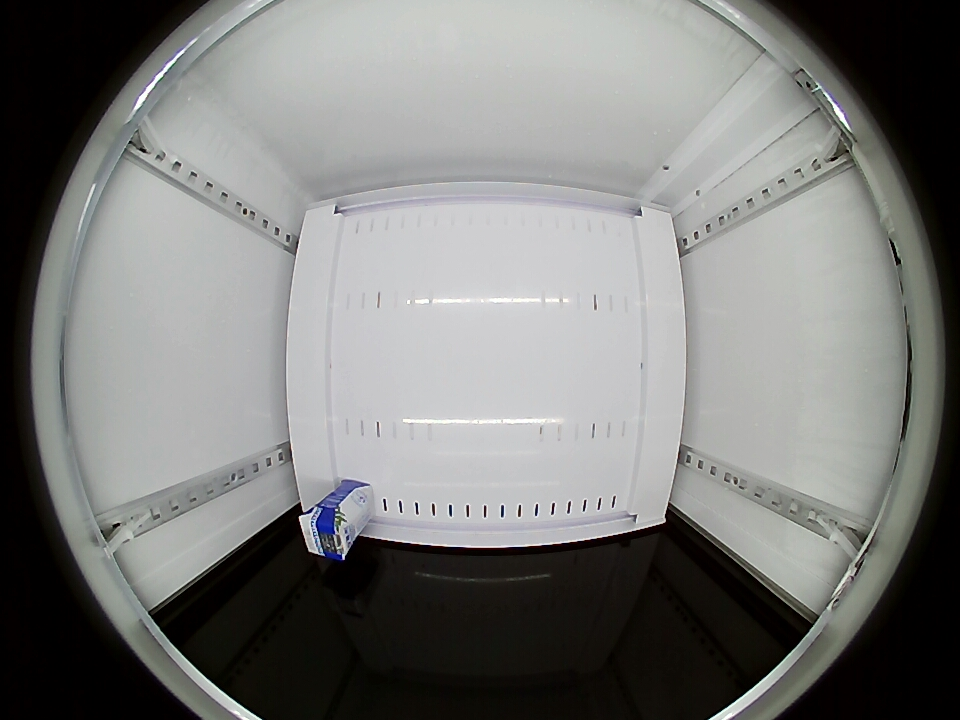anmuxi: (298, 505, 352, 561)
